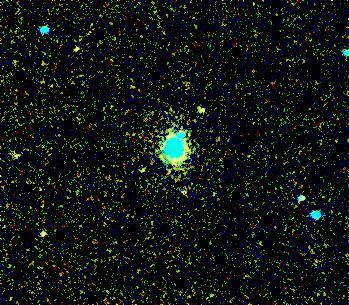star: (65, 31, 95, 61)
